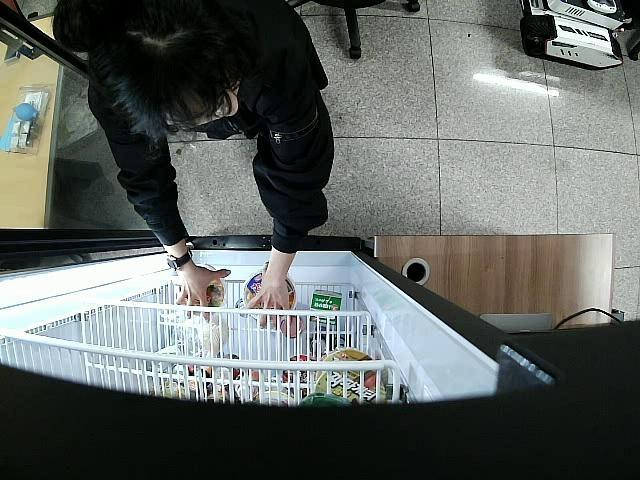09_yukGaeJang: (242, 270, 297, 321), (178, 264, 226, 310)
